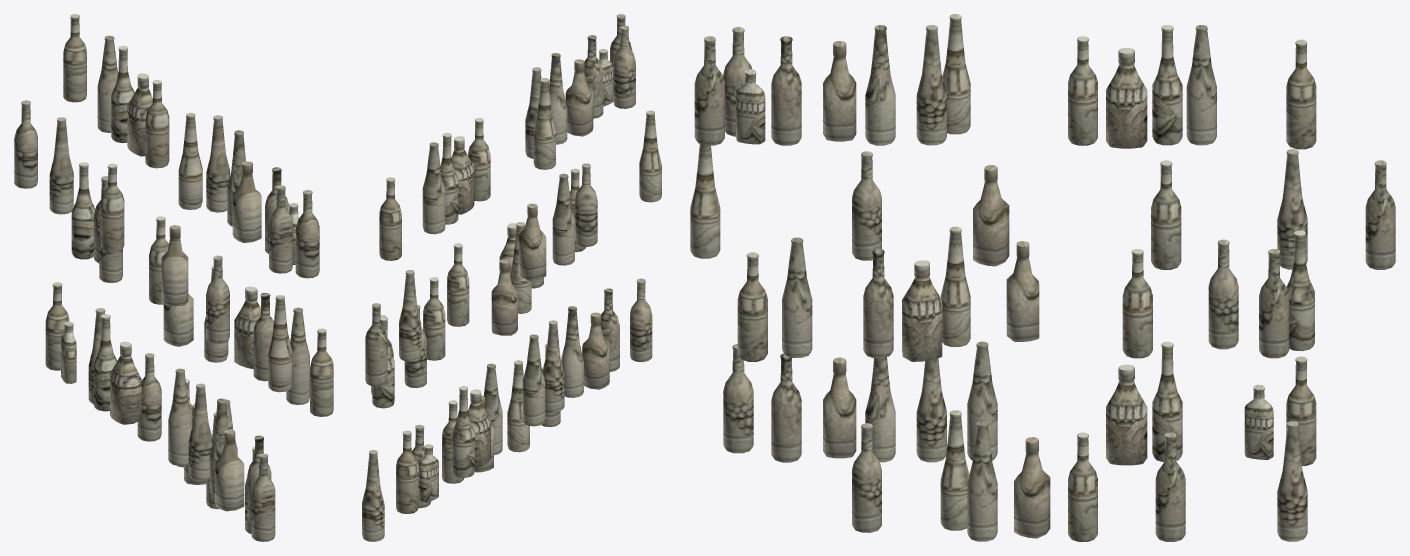
Rendered from bar.fbx.
3 views of the same model, side by side, from view 1: azimuth 30°, elevation 25°; view 2: azimuth 150°, elevation 25°; view 3: azimuth 270°, elevation 25° (orthographic). The views are drawn at different scales.
Parts seen in each view (by area): view 1: bar; view 2: bar; view 3: bar.
Part boxes in pixels (x1,y1,x2,y2): bar: (14, 14, 333, 541); bar: (362, 14, 661, 541); bar: (690, 14, 1395, 541).
Size of the model in its own units: 28.55 by 128 by 167.
